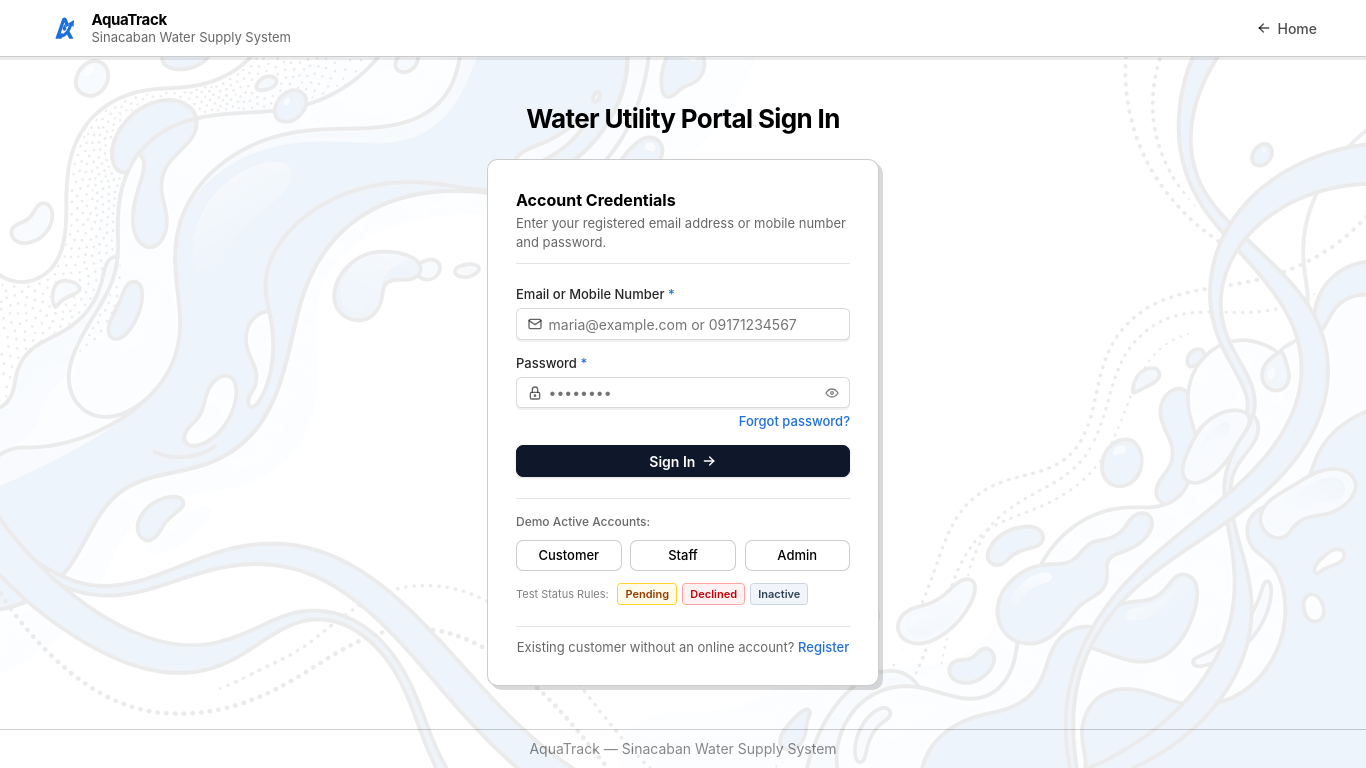
Login and Recovery Workflow › fails when using a used pin or link
The image size is (1366, 768).
Click the button "Forgot password?". click: (794, 422)
box: [739,412,850,431]
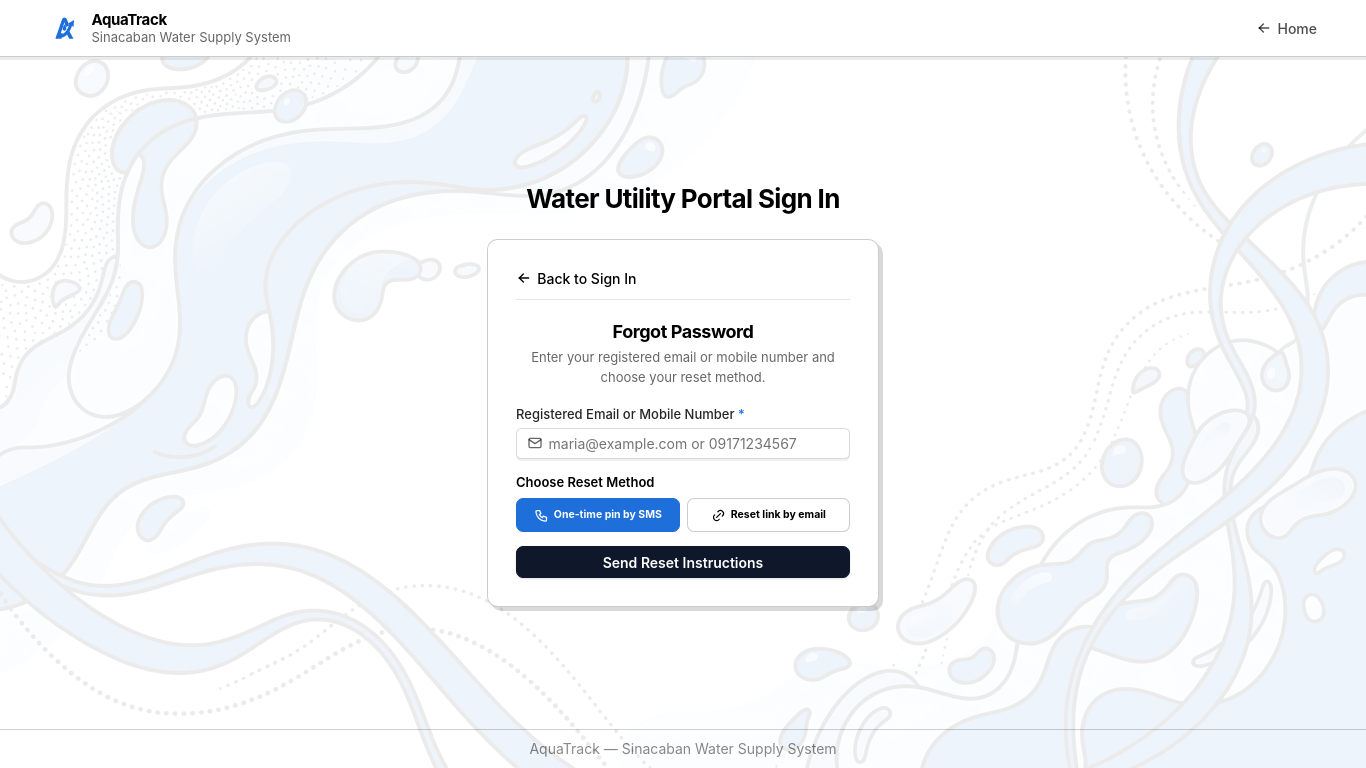
Type "09171234567" into the field labelled "Registered Email or Mobile Number*". click: (683, 443)
box: [516,428,850,459]
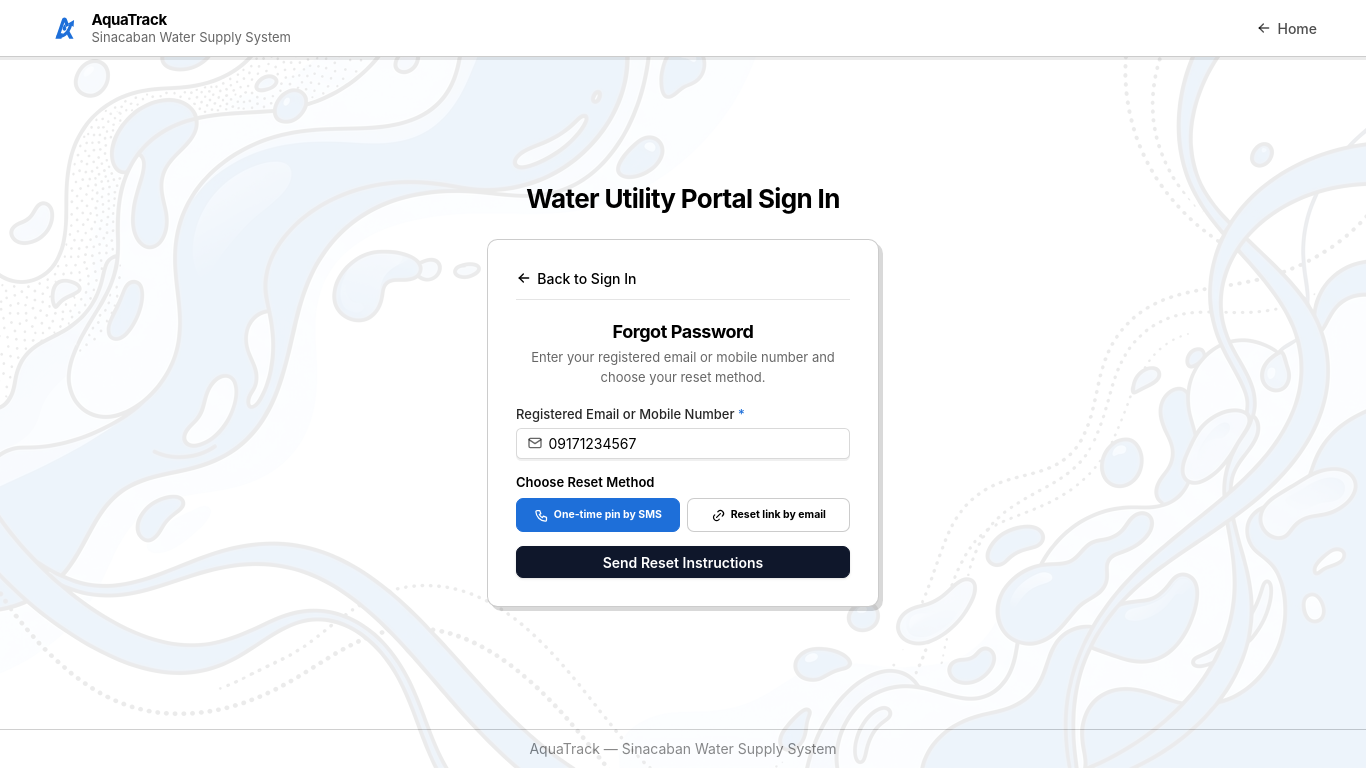
Click the button "Send Reset Instructions". click: (683, 562)
box: [516,546,850,578]
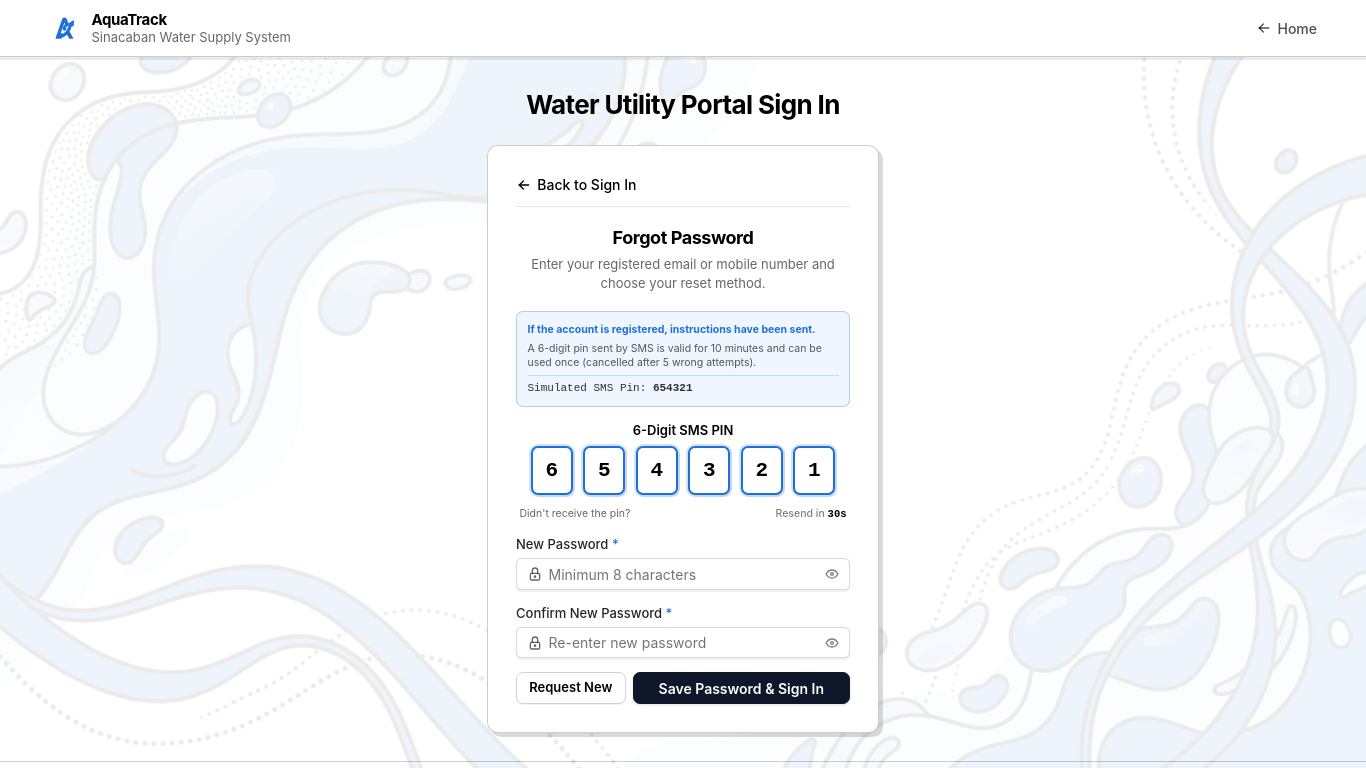
Expected: the text "6" is shown, [531,446,573,495]
Type "ValidPass123!" into the password field with placeholder "Minimum 8 characters". click: (683, 574)
box: [516,558,850,590]
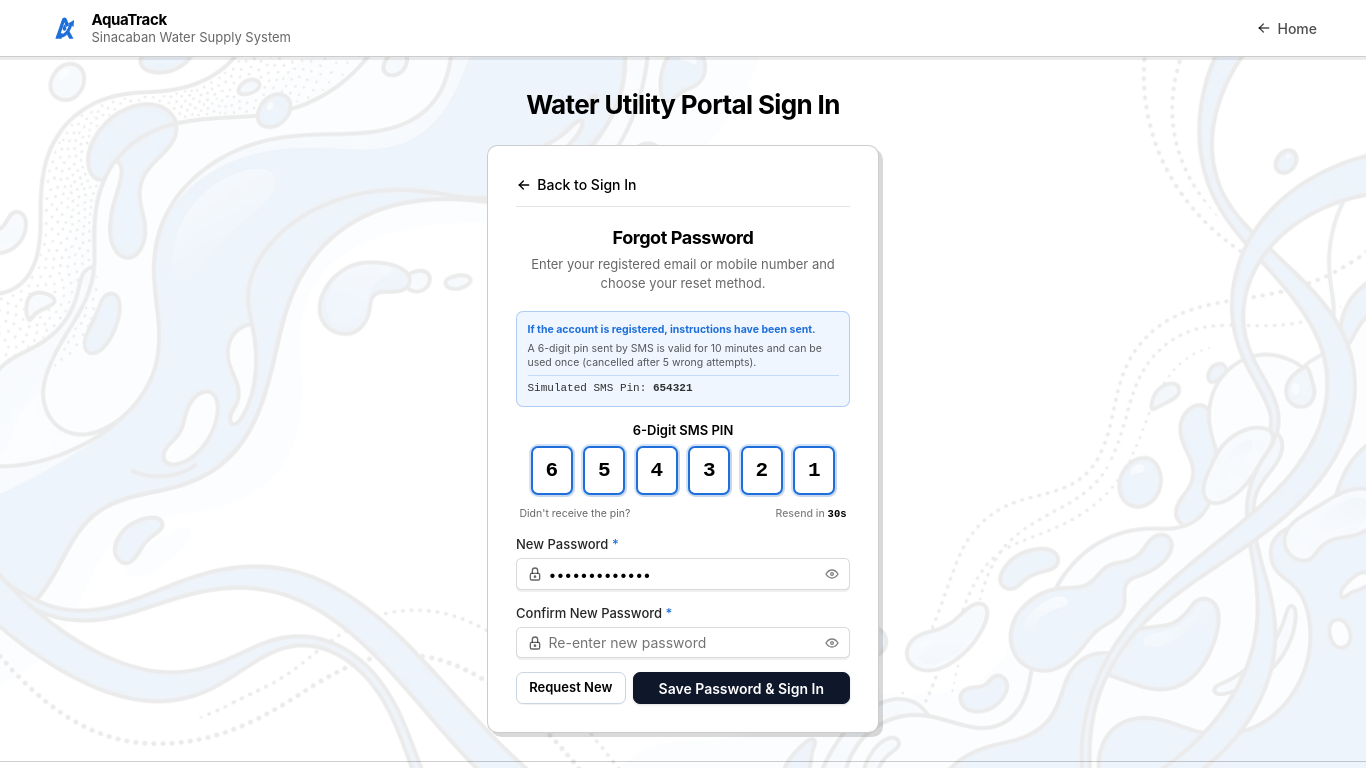
Type "ValidPass123!" into the password field with placeholder "Re-enter new password". click: (683, 643)
box: [516,627,850,658]
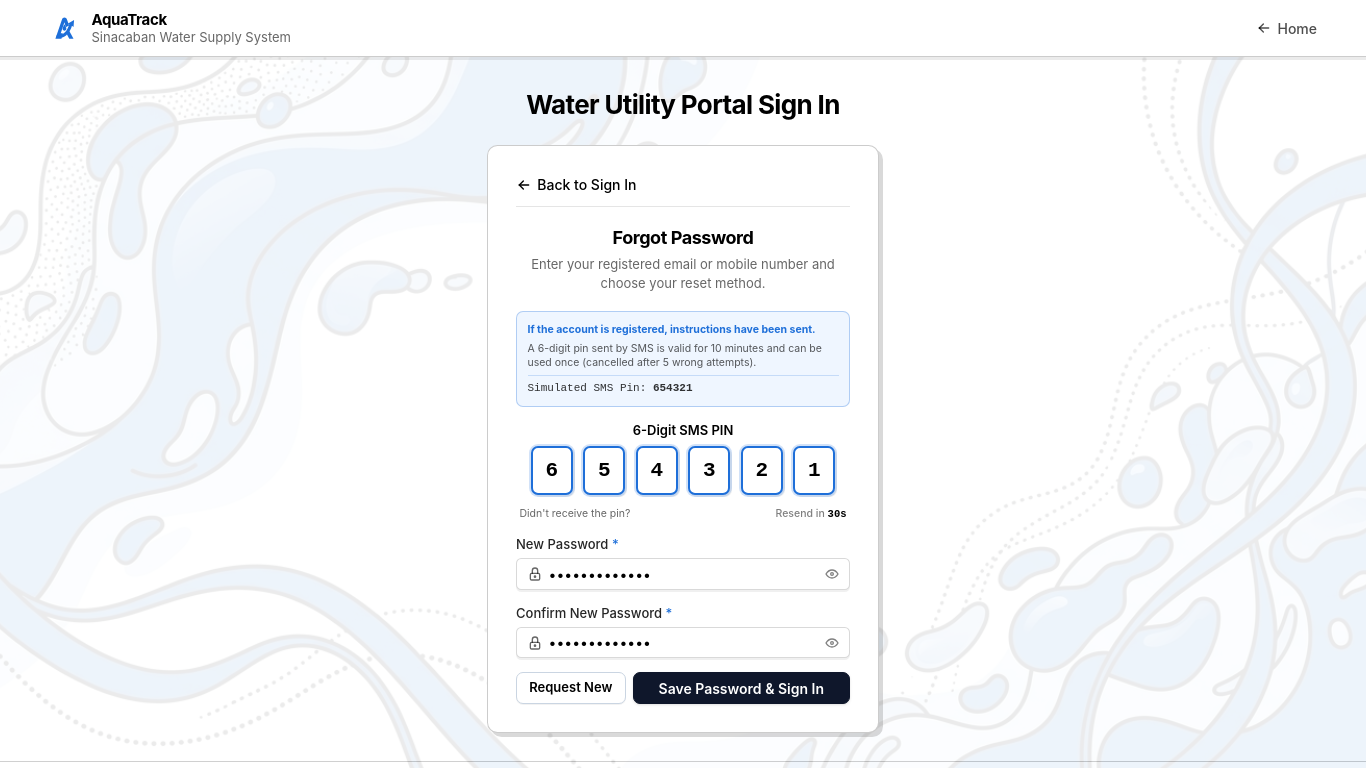
Click the button "Save Password & Sign In". click: (741, 688)
box: [632,672,850,704]
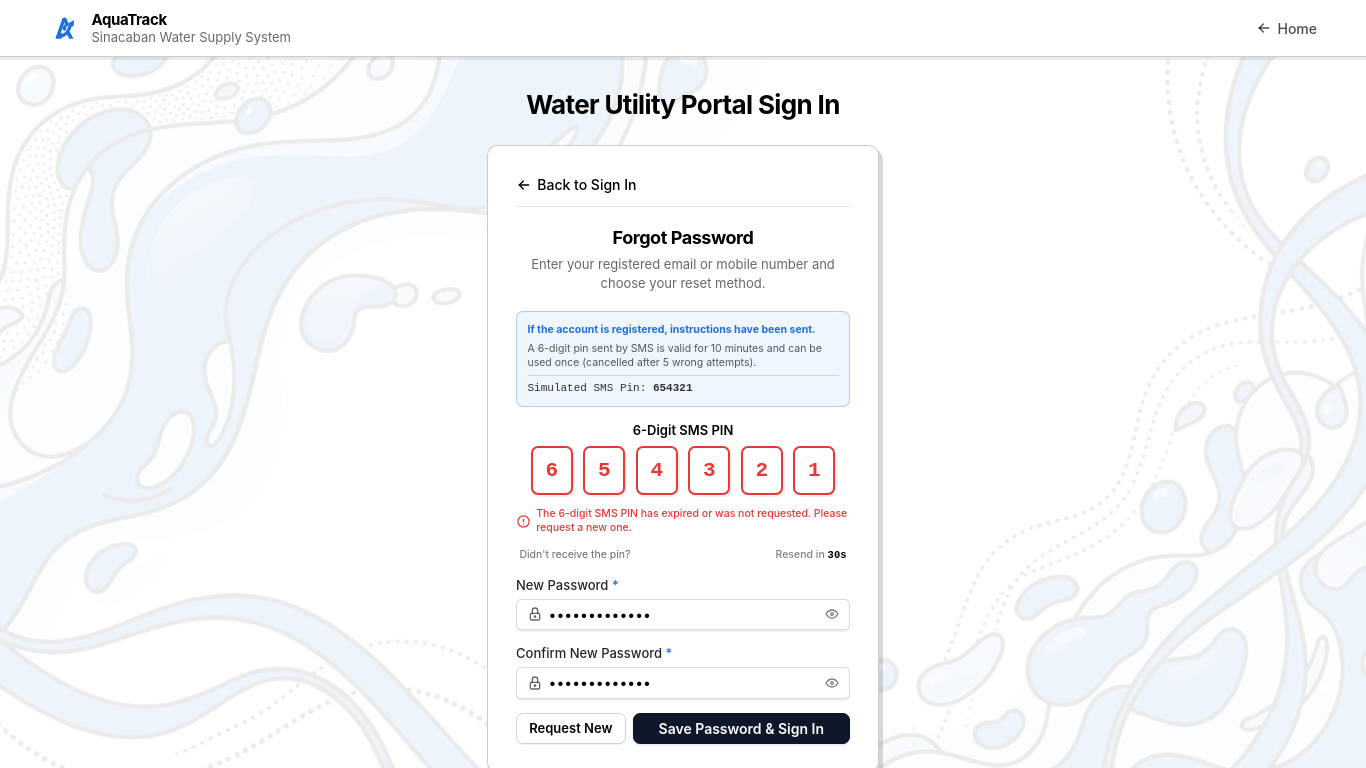
Expected: the text "The 6-digit SMS PIN has expired or was not requested" is shown, [536,507,847,534]
